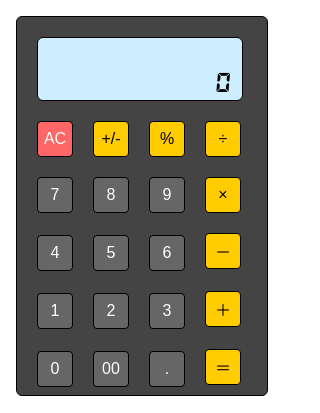
Scenario: App.vue › Mouseover on the screen causes message displayed
The image size is (320, 413).
expect the element with class "subscreen" is empty: met, box x1=38 y1=38 x2=242 y2=58
Hover over the text with class "digits" at (222, 82), box x1=215 y1=67 x2=230 y2=97
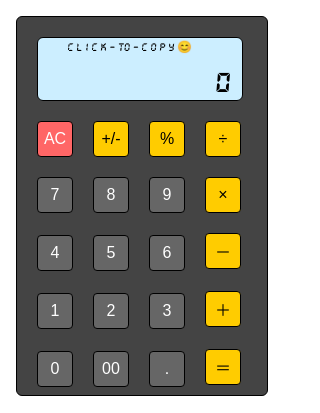
expect the element with class "subscreen" reads "C L I C K - TO - C O P Y 😊": met, box x1=67 y1=41 x2=192 y2=53
